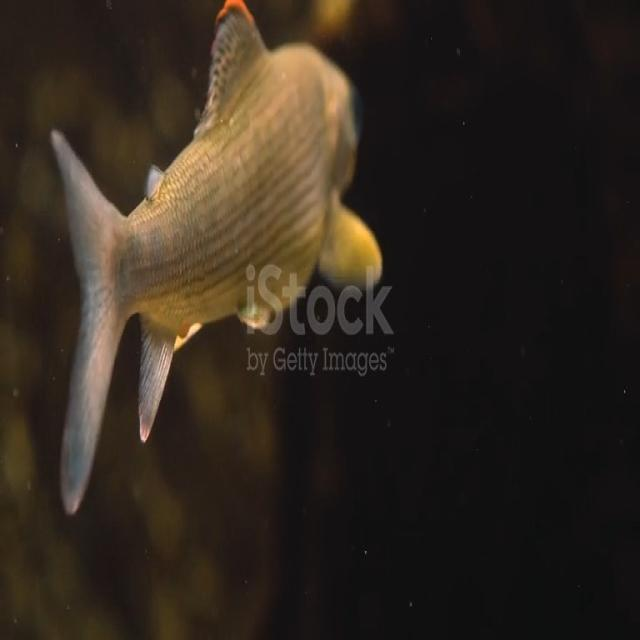fish: (44, 0, 383, 516)
